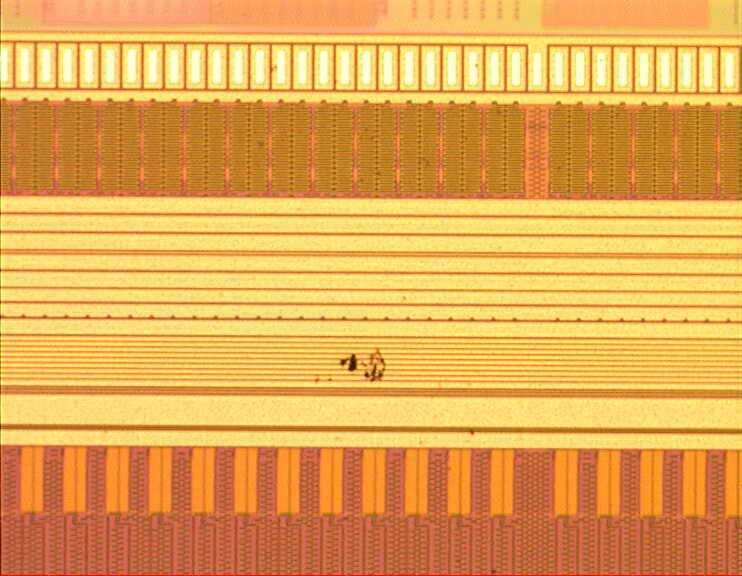PO CONTAMINATION: (311, 344, 503, 576)
